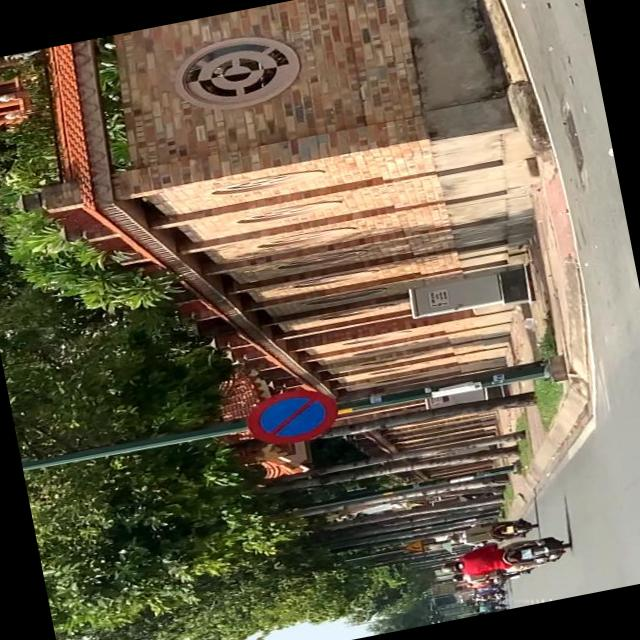P-131a: (242, 382, 342, 448)
